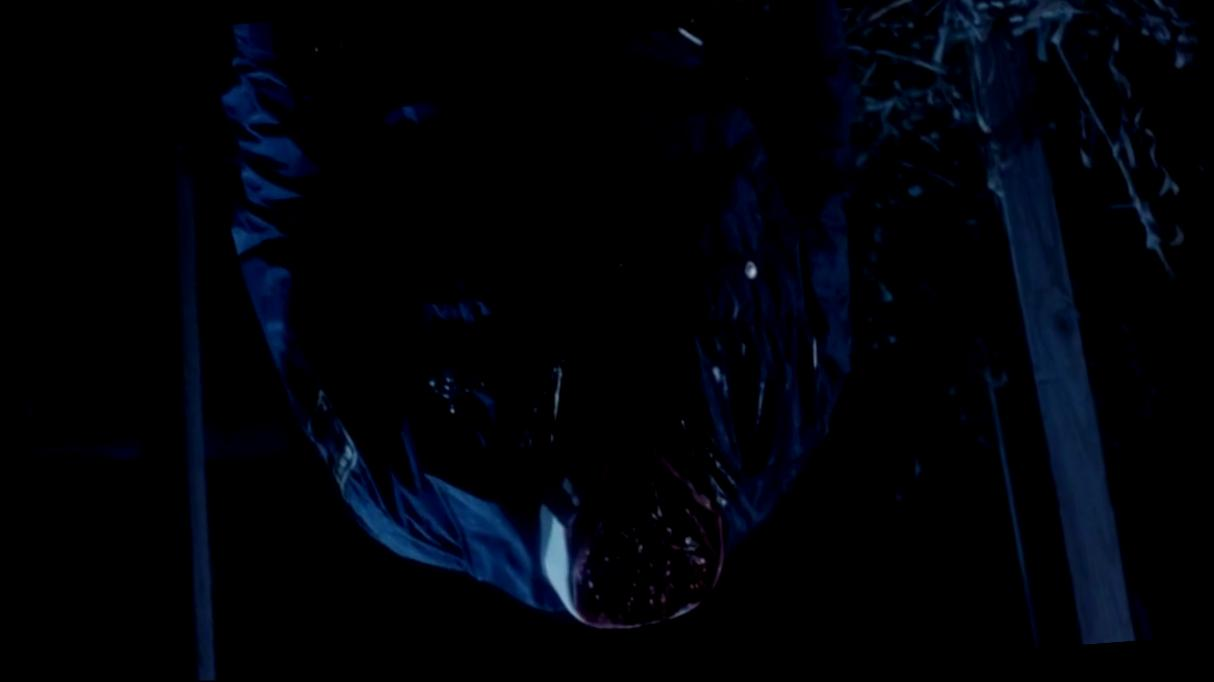Fire: (532, 89, 720, 626)
